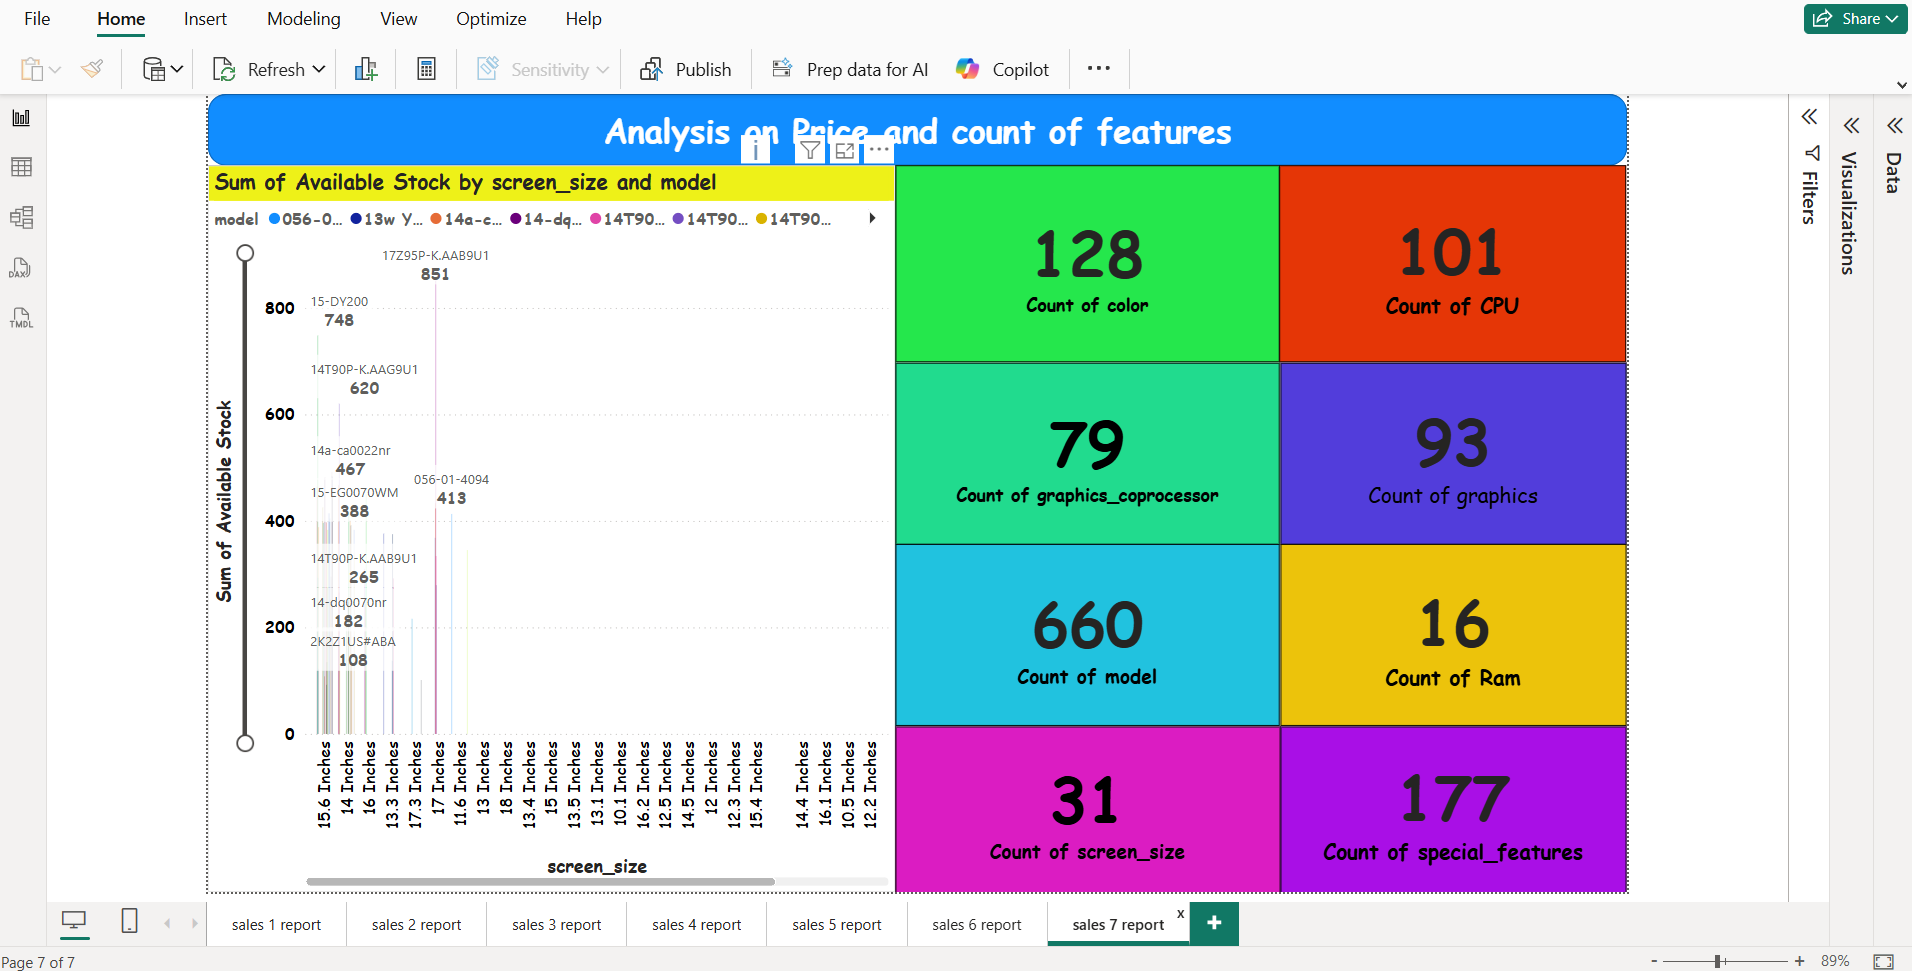

This screenshot's page, from the dashboard's own definition file:
{"tool":"powerbi","page":{"name":"sales 7 report ","canvas":[1280,720],"ordinal":6},"visuals":[{"type":"shape","box":[0,0,1279.7,64.5],"z":0},{"type":"lineClusteredColumnComboChart","fields":{"Y":["Sum(amazon_laptop sales report project.Available Stock)"],"Category":["amazon_laptop sales report project.screen_size"],"Series":["amazon_laptop sales report project.model"]},"box":[0,64.5,619.7,656],"z":1000},{"type":"card","fields":{"Values":["Count(amazon_laptop sales report project.color)"]},"box":[619.7,64.5,346.8,177.4],"z":2000},{"type":"card","fields":{"Values":["Count(amazon_laptop sales report project.CPU)"]},"box":[966.5,64.5,313.2,177.4],"z":3000},{"type":"card","fields":{"Values":["Count(amazon_laptop sales report project.graphics_coprocessor)"]},"box":[619.7,242,346.8,164],"z":4000},{"type":"card","fields":{"Values":["Count(amazon_laptop sales report project.model)"]},"box":[619.7,405.9,346.8,164],"z":5000},{"type":"card","fields":{"Values":["Count(amazon_laptop sales report project.screen_size)"]},"box":[620,570,347,150],"z":6000},{"type":"card","fields":{"Values":["Count(amazon_laptop sales report project.graphics)"]},"box":[967,242,312,164],"z":7000},{"type":"card","fields":{"Values":["Count(amazon_laptop sales report project.Ram)"]},"box":[967,406,312,164],"z":8000},{"type":"card","fields":{"Values":["Count(amazon_laptop sales report project.special_features)"]},"box":[967,570,312,150],"z":9000}]}

Visuals, with their boxes on the page's 1280x720 design canvas (x1, y1, x2, y2). These are canvas units, not pixel positions in the 1912x971 screenshot, which may show the page scaled, cropped or inside an application window:
shape: bbox=[0, 0, 1280, 64]
lineClusteredColumnComboChart - Sum(amazon_laptop sales report project.Available Stock) x amazon_laptop sales report project.screen_size: bbox=[0, 64, 620, 720]
card - Count(amazon_laptop sales report project.color): bbox=[620, 64, 966, 242]
card - Count(amazon_laptop sales report project.CPU): bbox=[966, 64, 1280, 242]
card - Count(amazon_laptop sales report project.graphics_coprocessor): bbox=[620, 242, 966, 406]
card - Count(amazon_laptop sales report project.model): bbox=[620, 406, 966, 570]
card - Count(amazon_laptop sales report project.screen_size): bbox=[620, 570, 967, 720]
card - Count(amazon_laptop sales report project.graphics): bbox=[967, 242, 1279, 406]
card - Count(amazon_laptop sales report project.Ram): bbox=[967, 406, 1279, 570]
card - Count(amazon_laptop sales report project.special_features): bbox=[967, 570, 1279, 720]
